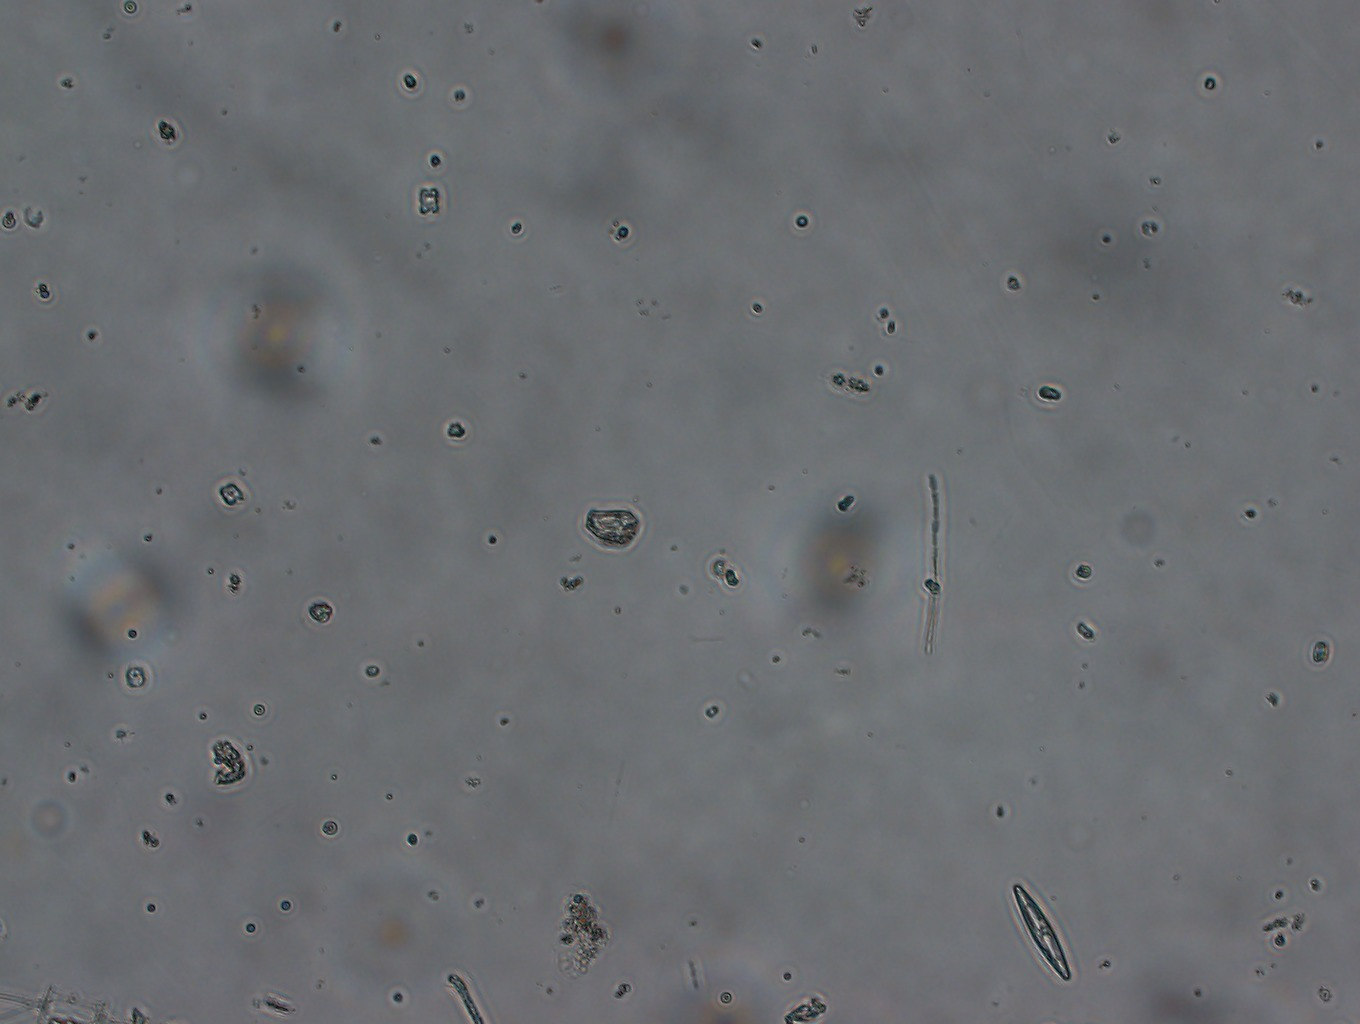navicula: (1001, 880, 1080, 989)
